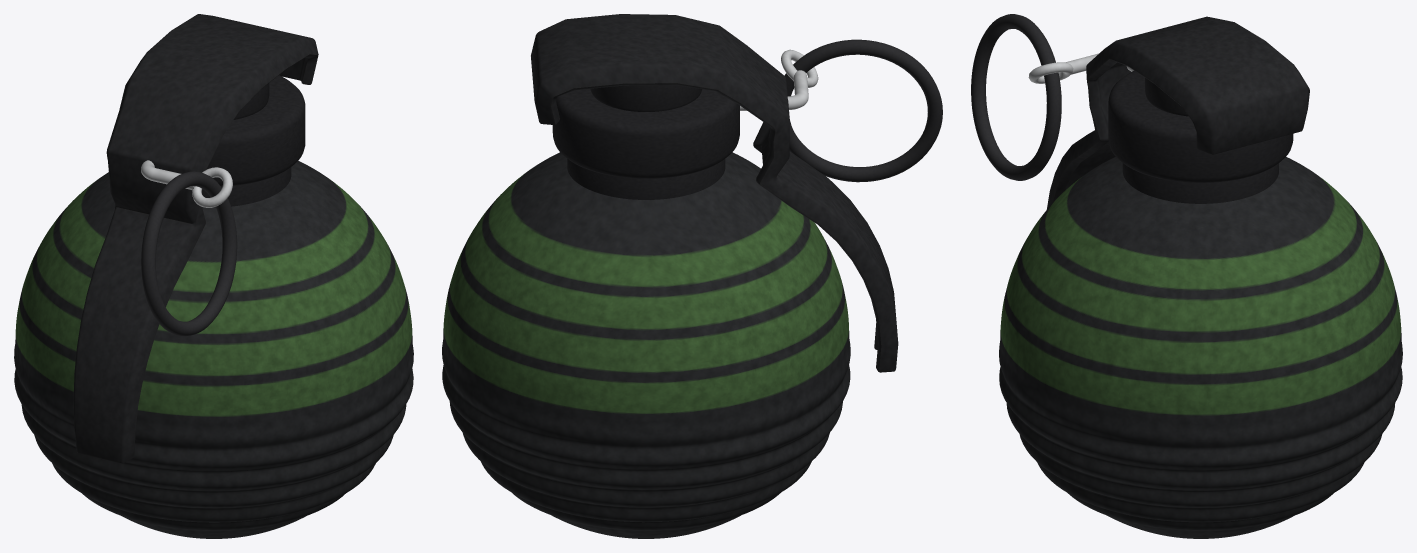
File: DecoyGrenade.fbx
3 views of the same model, side by side, from view 1: azimuth 30°, elevation 25°; view 2: azimuth 150°, elevation 25°; view 3: azimuth 270°, elevation 25° (orthographic). The views are drawn at different scales.
Parts seen in each view (by area): view 1: DecoyGrenade.001; view 2: DecoyGrenade.001; view 3: DecoyGrenade.001.
Boxes of the visible parts, left/top/right/bottom form: DecoyGrenade.001: left=14, top=14, right=413, bottom=538; DecoyGrenade.001: left=442, top=14, right=942, bottom=538; DecoyGrenade.001: left=971, top=14, right=1402, bottom=538.
Size of the model in its own units: 0.0628 by 0.0772 by 0.0635.
